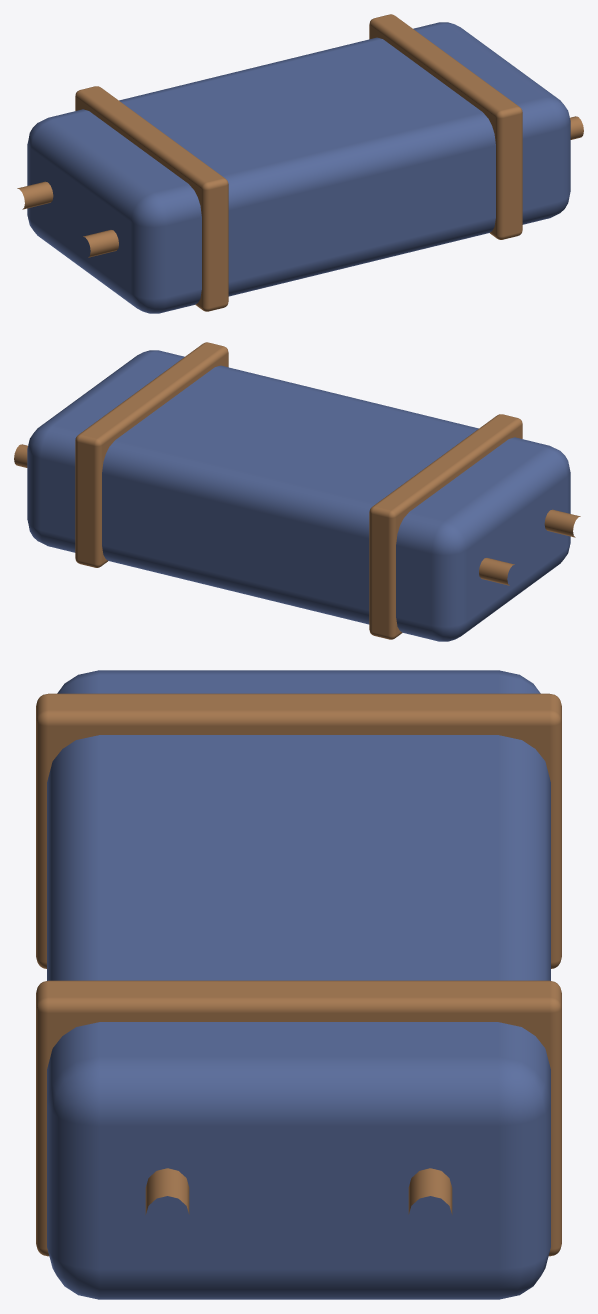
The model's file is desert-caravanserai-and-bazaar-folded-tent-bundle-ccfe91c4__30458.glb.
3 views of the same model, one above another, from view 1: azimuth 30°, elevation 25°; view 2: azimuth 150°, elevation 25°; view 3: azimuth 270°, elevation 25° (orthographic). The views are drawn at different scales.
Parts seen in each view (by area): view 1: folded-tent-bundle; view 2: folded-tent-bundle; view 3: folded-tent-bundle.
Part boxes in pixels (x1,y1,x2,y2): folded-tent-bundle: [17, 14, 583, 313]; folded-tent-bundle: [14, 342, 580, 641]; folded-tent-bundle: [36, 670, 561, 1299].
Bounding box in the file's own units: 1.04 × 0.26 × 0.4799.
